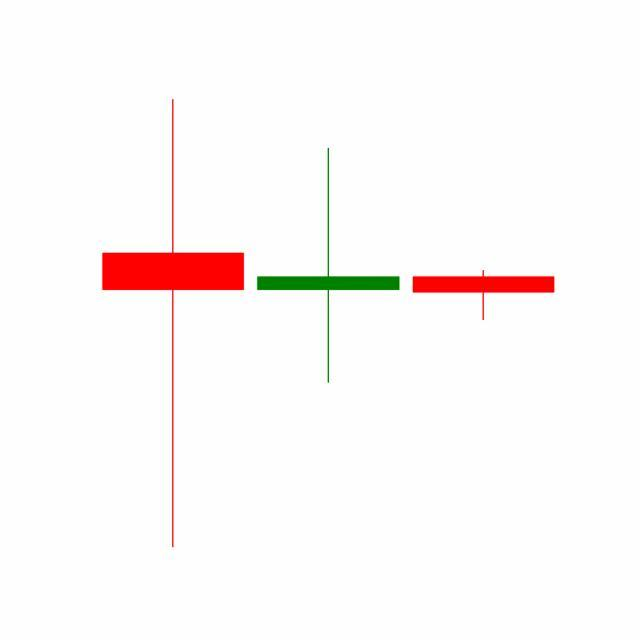Spinning Top: (250, 146, 407, 386)
